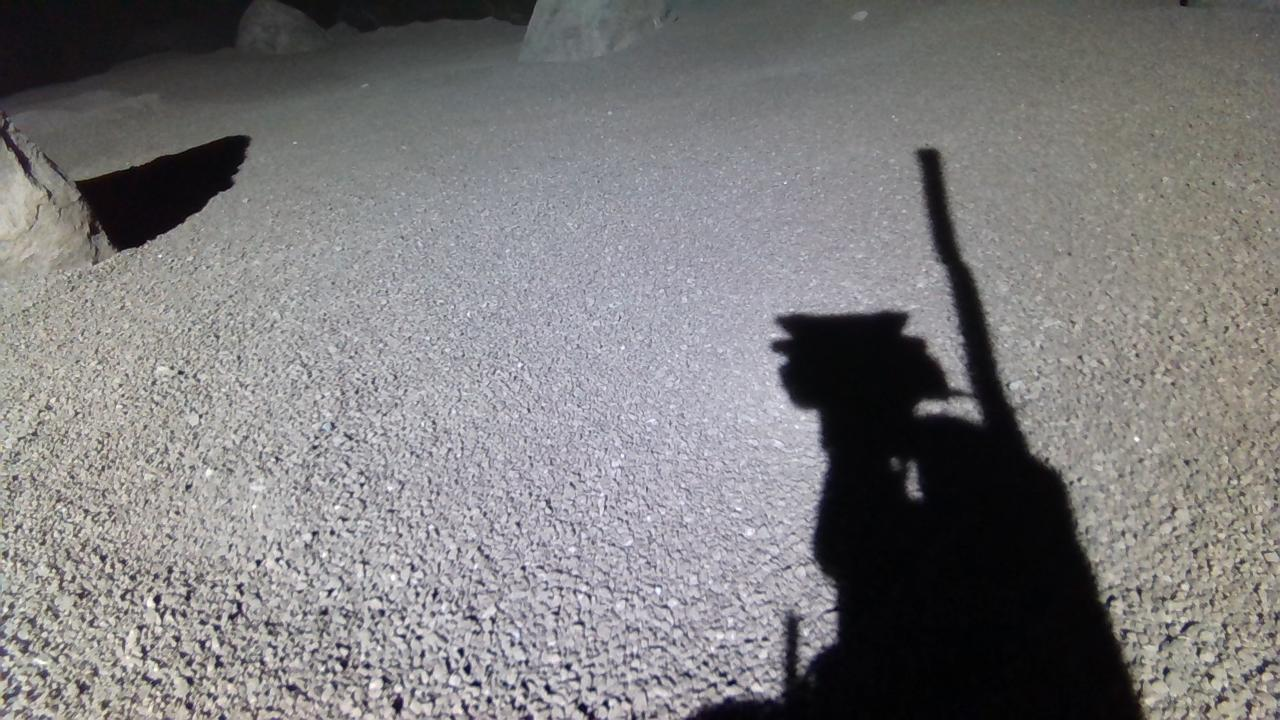rock: (0, 109, 113, 276), (519, 0, 677, 60), (234, 0, 331, 52)
